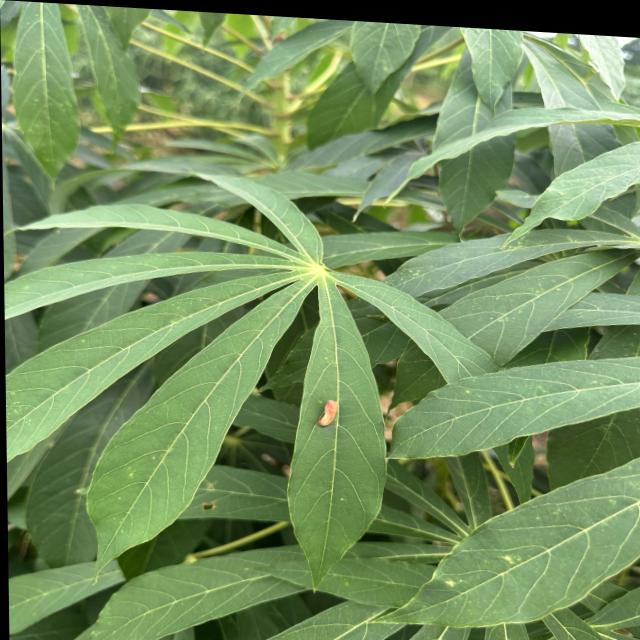Mosca: (311, 385, 350, 434)
